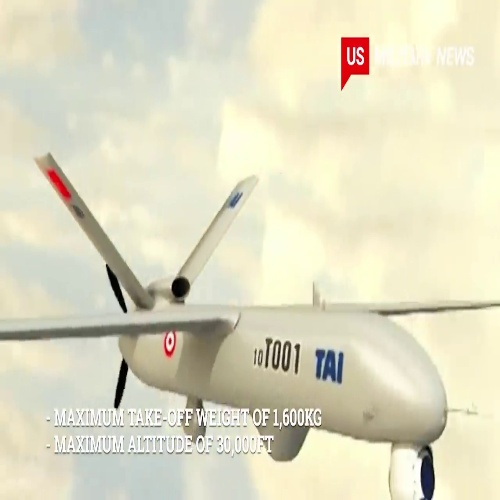uav: (1, 152, 497, 500)
